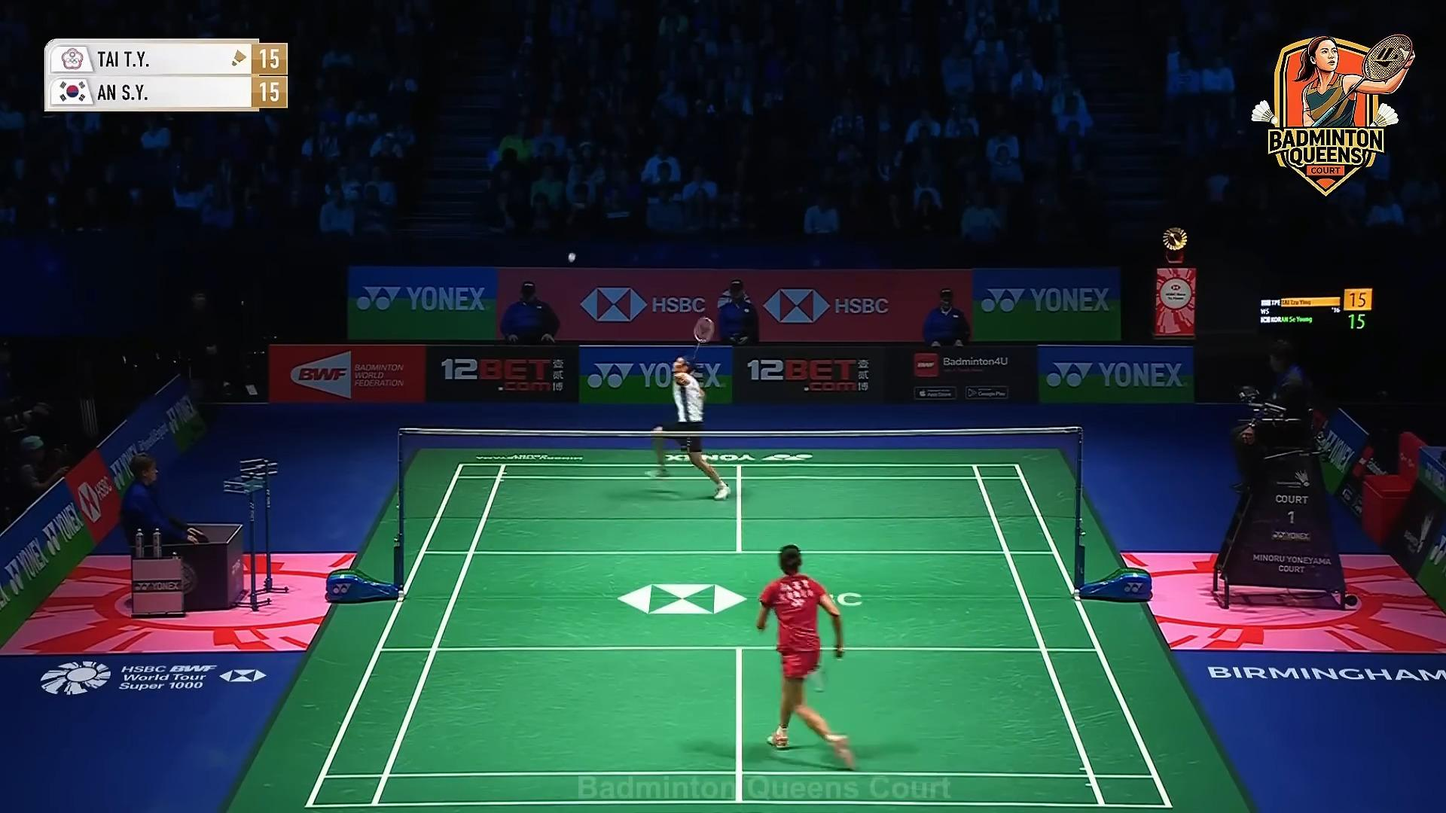player: (756, 544, 855, 771), (651, 354, 731, 501)
